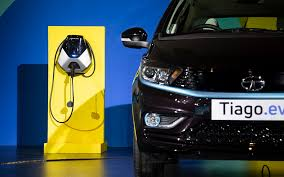Tiago: (118, 1, 284, 173)
